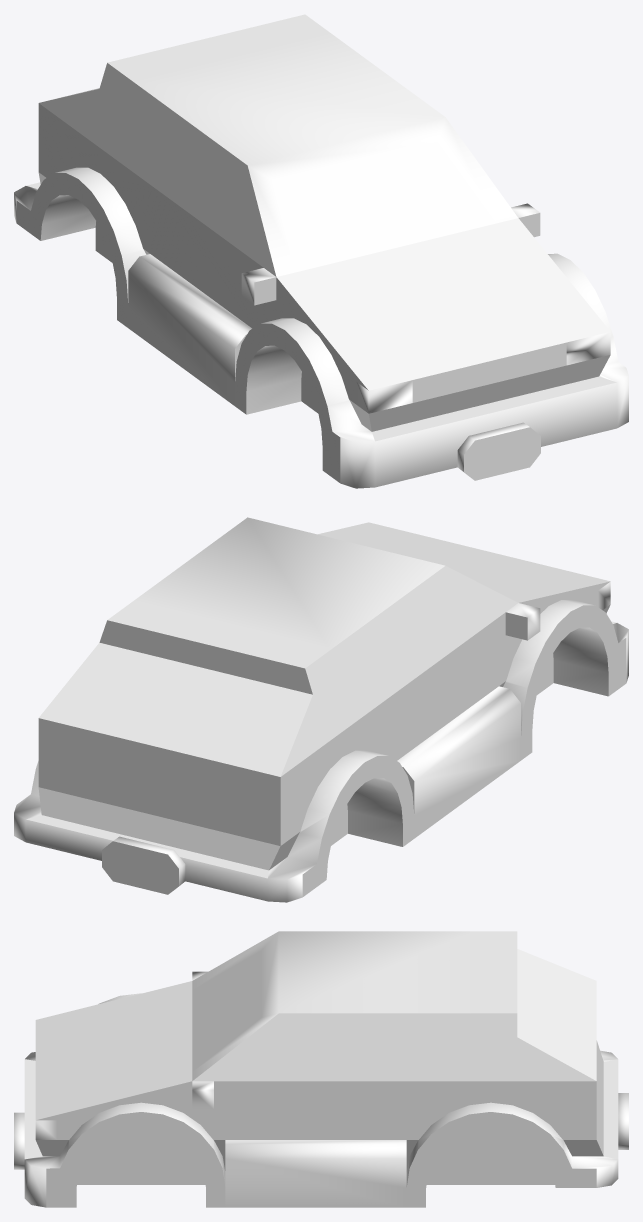
Rendered from hatchback-vehicle.glb.
3 renders of one model, top to bottom at view 1: azimuth 30°, elevation 25°; view 2: azimuth 150°, elevation 25°; view 3: azimuth 270°, elevation 25°, orthographic. The views are drawn at different scales.
Parts seen in each view (by area): view 1: hatchback-vehicle; view 2: hatchback-vehicle; view 3: hatchback-vehicle.
Boxes of the visible parts, x1,y1,x2,y2 form: hatchback-vehicle: [14, 14, 628, 488]; hatchback-vehicle: [14, 517, 628, 902]; hatchback-vehicle: [14, 931, 628, 1207].
Size of the model in its own units: 1.3 by 0.95 by 2.85.
1 material, 1 textured.
